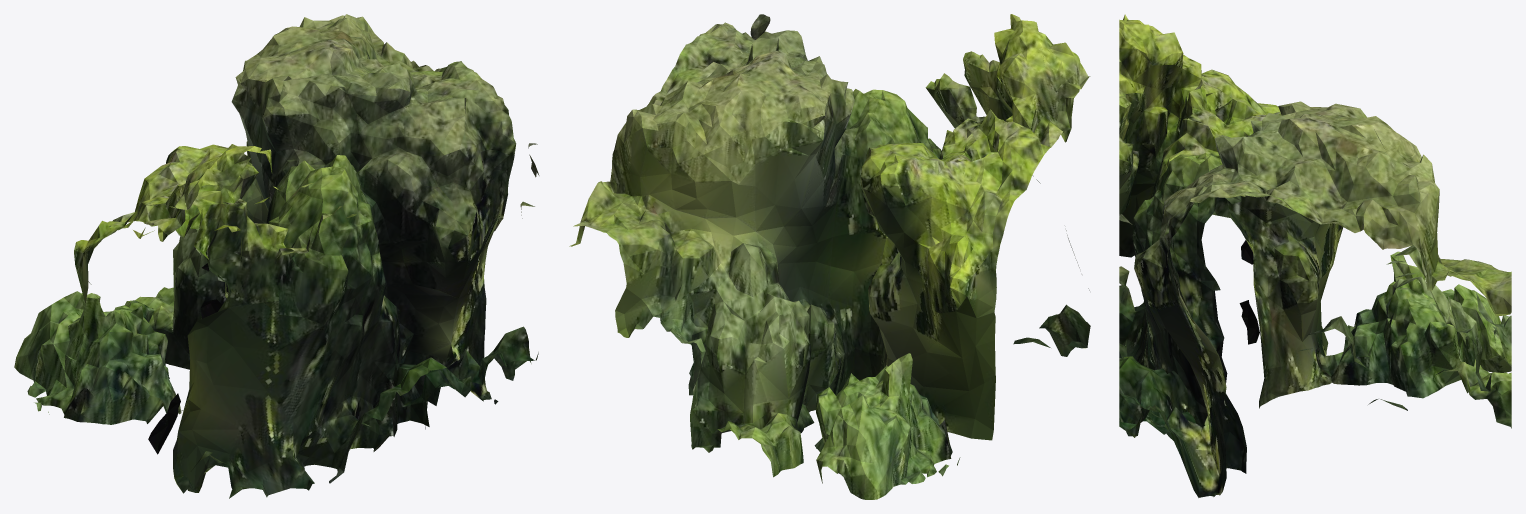
The picture shows the model from 3 angles, left to right: view 1: azimuth 30°, elevation 25°; view 2: azimuth 150°, elevation 25°; view 3: azimuth 270°, elevation 25°; orthographic projection. The views are drawn at different scales.
Bounding box in the file's own units: 26.11 × 25.24 × 26.11.
Materials: 8 (8 with a texture image).
